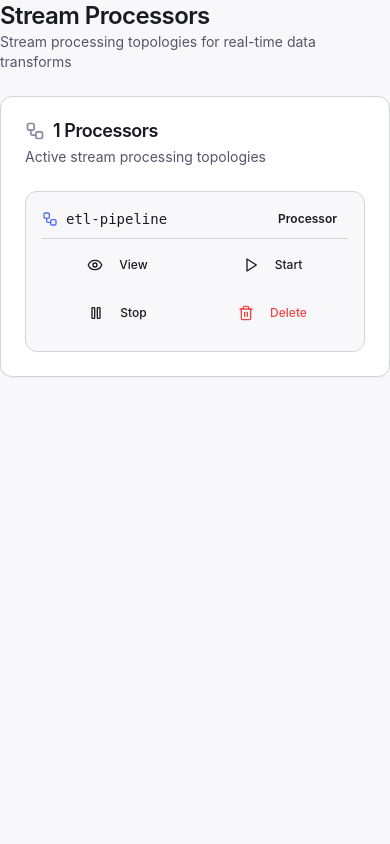
it: ProcessorsPage › shows delete confirmation dialog when Delete is clicked
Expected: the text "etl-pipeline" is shown, [66,209,167,229]
Click the button with aria-label "Delete processor" at (272, 313), box [197,291,348,335]
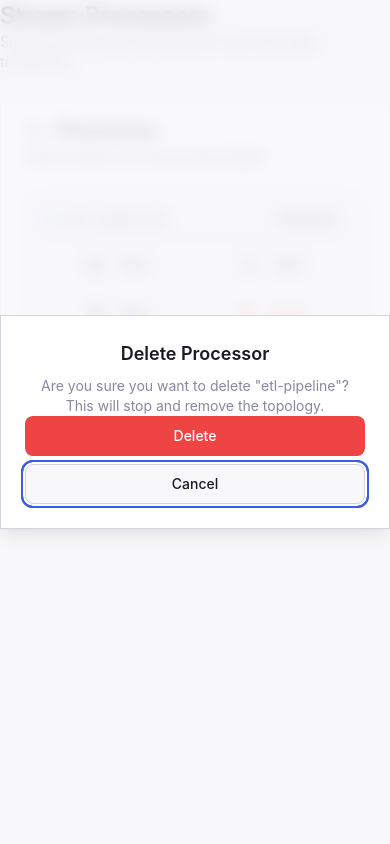
Result: the heading "Delete Processor" is shown at [121,343,269,364]
Result: the text "Are you sure you want to delete \"etl-pipeline\"" is shown at [25,376,365,416]
